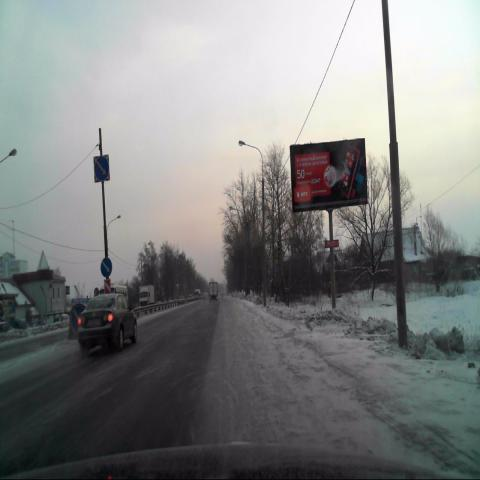4_2_1: (92, 153, 110, 182)
